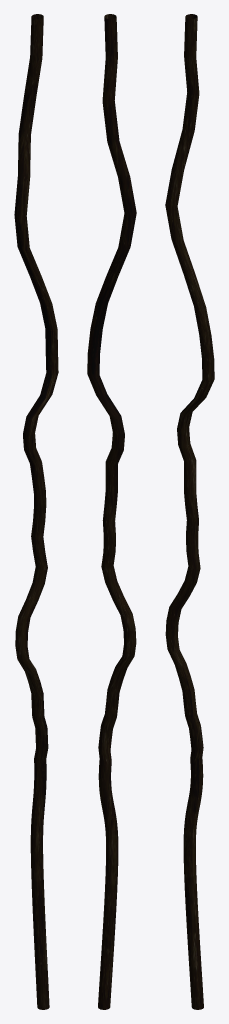
File: Cable03.fbx
3 renders of one model, left to right at view 1: azimuth 30°, elevation 25°; view 2: azimuth 150°, elevation 25°; view 3: azimuth 330°, elevation 25°, orthographic.
Visible parts, largest first — view 1: Plane (20); view 2: Plane (20); view 3: Plane (20).
Part boxes in pixels (x1=…): Plane (20): x1=14, y1=14, x2=58, y2=1009; Plane (20): x1=87, y1=14, x2=136, y2=1009; Plane (20): x1=165, y1=14, x2=214, y2=1009.
Bounding box in the file's own units: 33.73 × 708 × 16.82.
